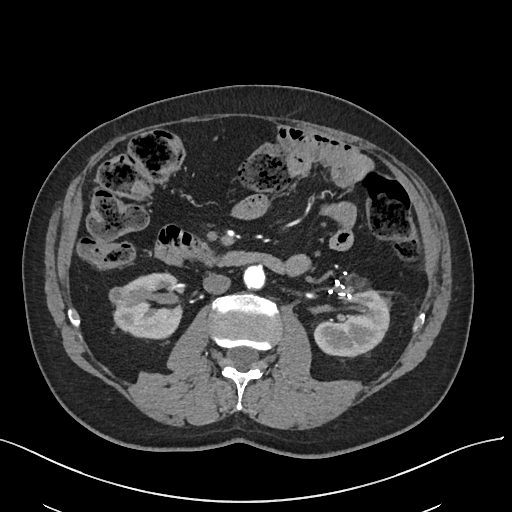Lesion: (106, 285, 126, 308)
